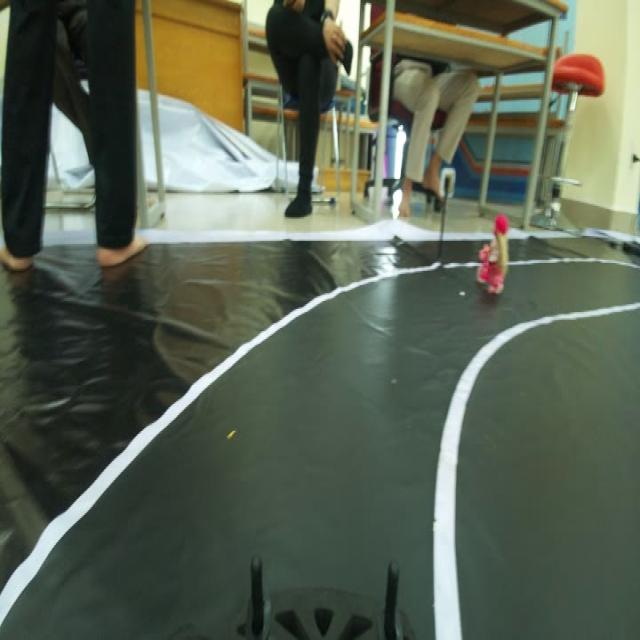pedestrian: (478, 207, 512, 300)
